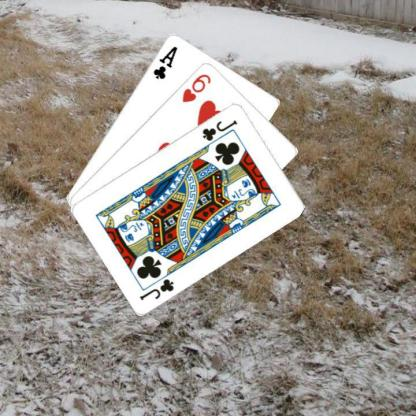6H: (180, 71, 212, 103)
AC: (150, 43, 179, 80)
JC: (137, 276, 176, 302), (199, 117, 239, 142)
